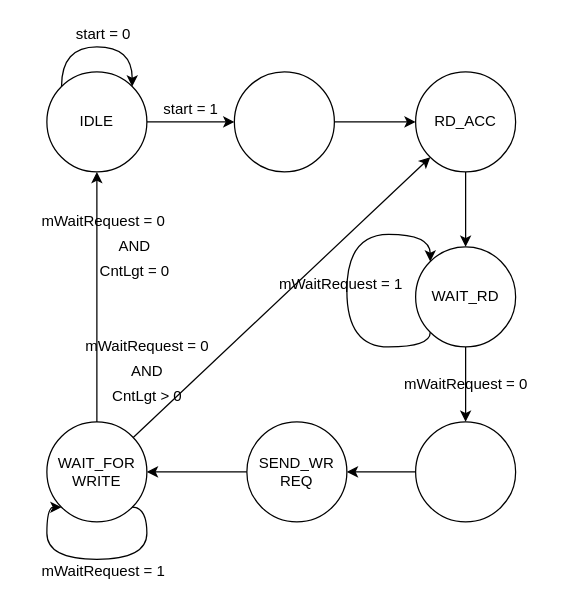
Some shapes in this 568 by 605 pixel diagram are drawn without their labels. Each missing label, with the centre of its shape:
"CALCULATE" goes at point 465,471.
"LOAD PARAMS" goes at point 283,121.
